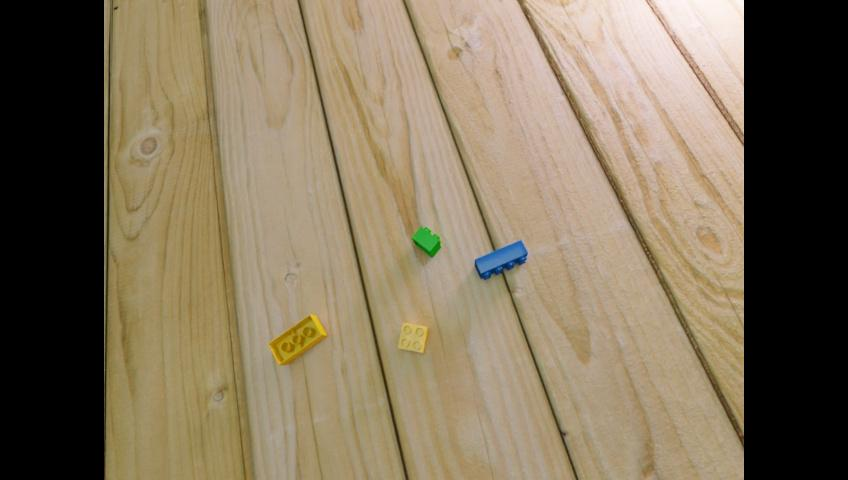2x2_green: (411, 226, 440, 257)
2x2_yellow: (398, 322, 428, 352)
4x2_blue: (474, 239, 527, 279)
4x2_yellow: (268, 313, 326, 364)
